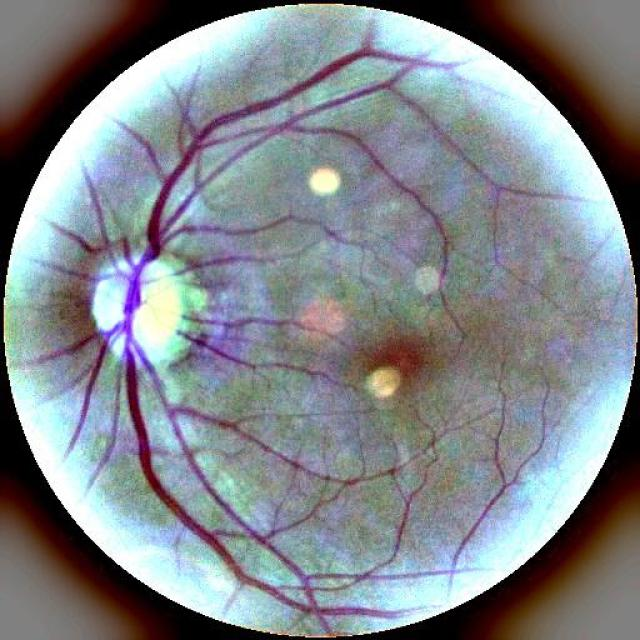Macula: (363, 332, 438, 396)
Nerves: (45, 100, 270, 581), (214, 120, 289, 175), (188, 324, 254, 366), (174, 329, 205, 356), (304, 369, 319, 374)
Optic Disk: (79, 258, 201, 370)
